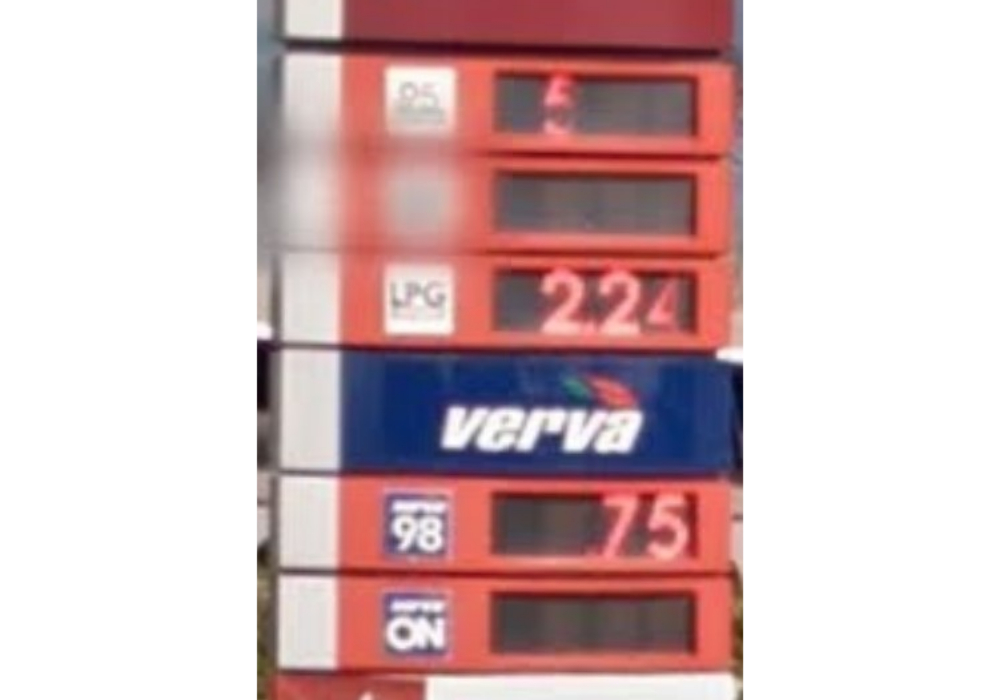LPG: (382, 262, 456, 335)
ON: (377, 584, 456, 660)
PB95: (381, 64, 456, 134)
PB98: (382, 487, 454, 562)
